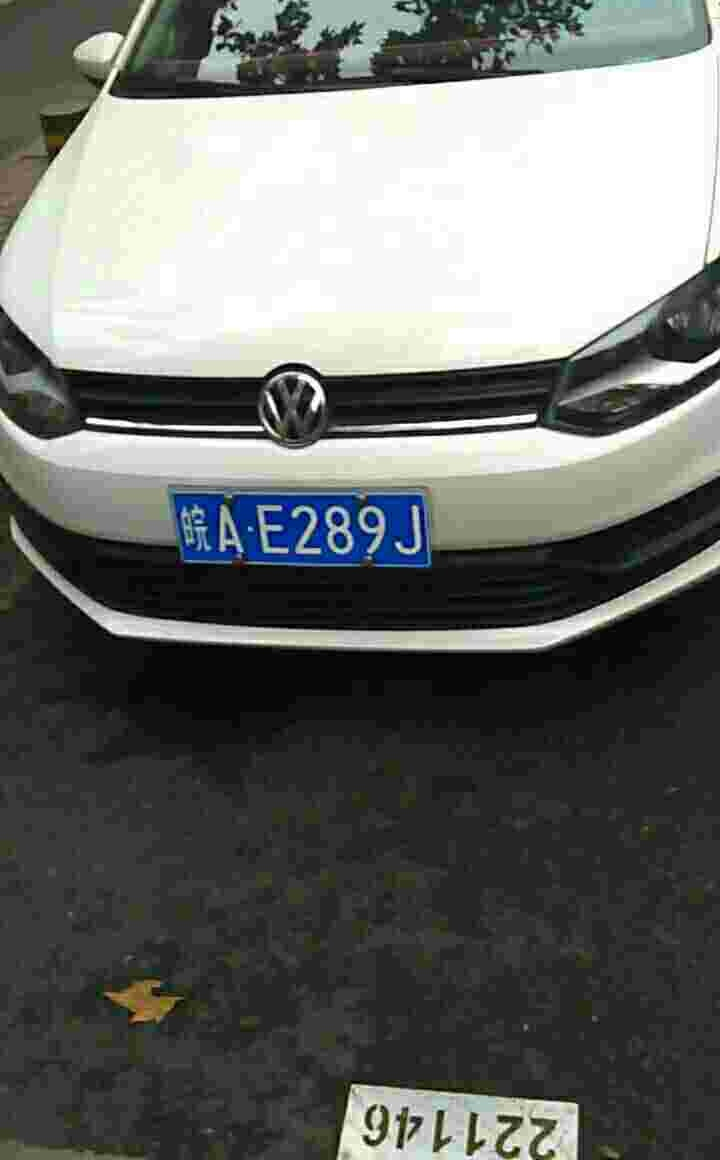plate: (169, 487, 440, 572)
